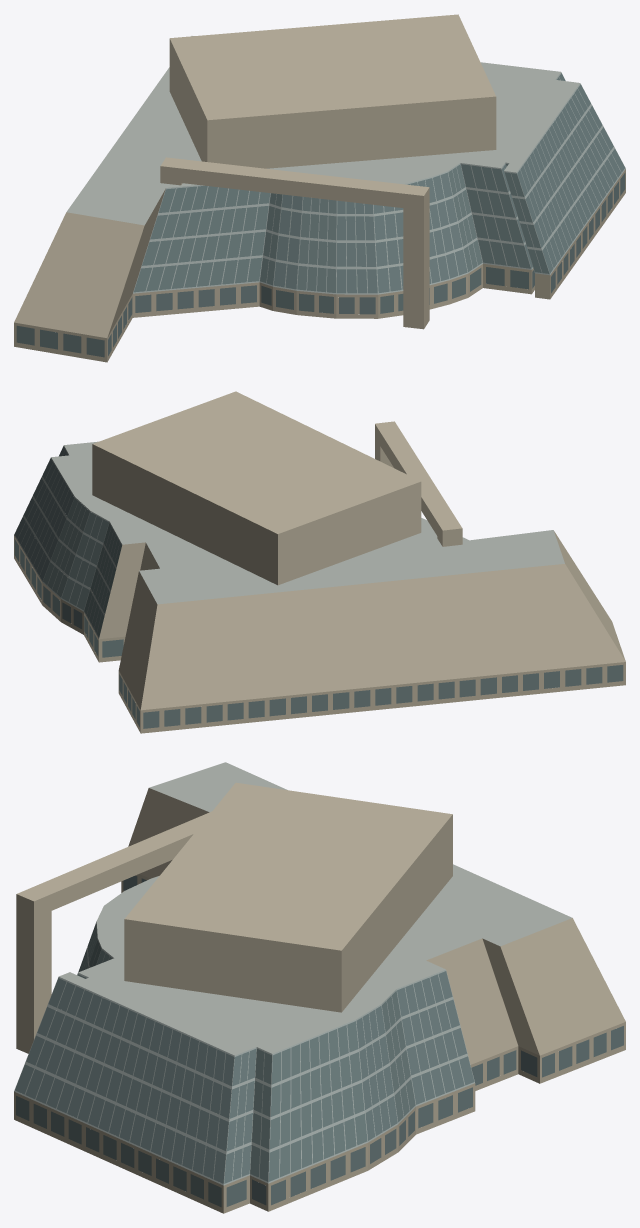
The model's file is meyerson-symphony-center-near.glb.
The picture shows the model from 3 angles, top to bottom: view 1: azimuth 30°, elevation 25°; view 2: azimuth 150°, elevation 25°; view 3: azimuth 270°, elevation 25°; orthographic projection. The views are drawn at different scales.
Parts seen in each view (by area): view 1: meyerson-symphony-center-0-stone, meyerson-symphony-center-0-glass, meyerson-symphony-center-0-roof, meyerson-symphony-center-0-metal; view 2: meyerson-symphony-center-0-stone, meyerson-symphony-center-0-roof, meyerson-symphony-center-0-glass, meyerson-symphony-center-0-metal; view 3: meyerson-symphony-center-0-stone, meyerson-symphony-center-0-glass, meyerson-symphony-center-0-roof, meyerson-symphony-center-0-metal.
Part boxes in pixels (x1=…): meyerson-symphony-center-0-stone: x1=14, y1=14, x2=625, y2=362; meyerson-symphony-center-0-glass: x1=16, y1=73, x2=625, y2=357; meyerson-symphony-center-0-roof: x1=66, y1=36, x2=579, y2=225; meyerson-symphony-center-0-metal: x1=133, y1=72, x2=625, y2=294; meyerson-symphony-center-0-stone: x1=14, y1=391, x2=625, y2=733; meyerson-symphony-center-0-roof: x1=51, y1=441, x2=564, y2=604; meyerson-symphony-center-0-glass: x1=14, y1=446, x2=623, y2=728; meyerson-symphony-center-0-metal: x1=14, y1=445, x2=122, y2=638; meyerson-symphony-center-0-stone: x1=14, y1=782, x2=625, y2=1213; meyerson-symphony-center-0-glass: x1=15, y1=875, x2=623, y2=1207; meyerson-symphony-center-0-roof: x1=59, y1=762, x2=572, y2=1055; meyerson-symphony-center-0-metal: x1=14, y1=921, x2=474, y2=1185.
Bounding box in the file's own units: 133 × 35 × 98.55.
